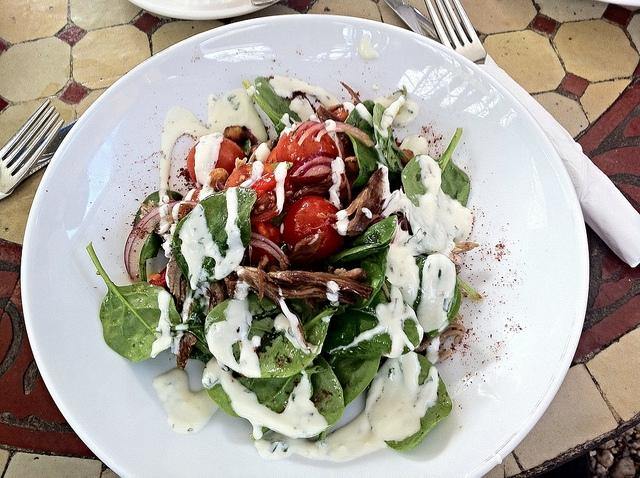tomato: (282, 196, 344, 264), (276, 126, 338, 174), (187, 136, 246, 184), (224, 163, 274, 189), (250, 189, 279, 225), (252, 222, 284, 245), (149, 266, 168, 290), (332, 106, 349, 122)
